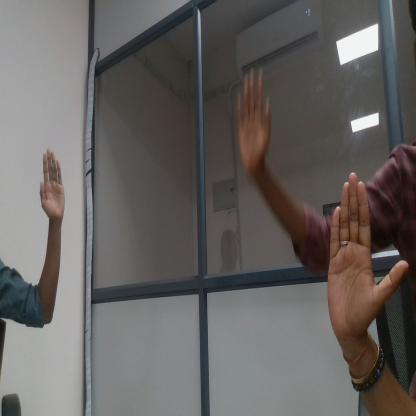Stop: (321, 165, 412, 346), (31, 142, 84, 239)
